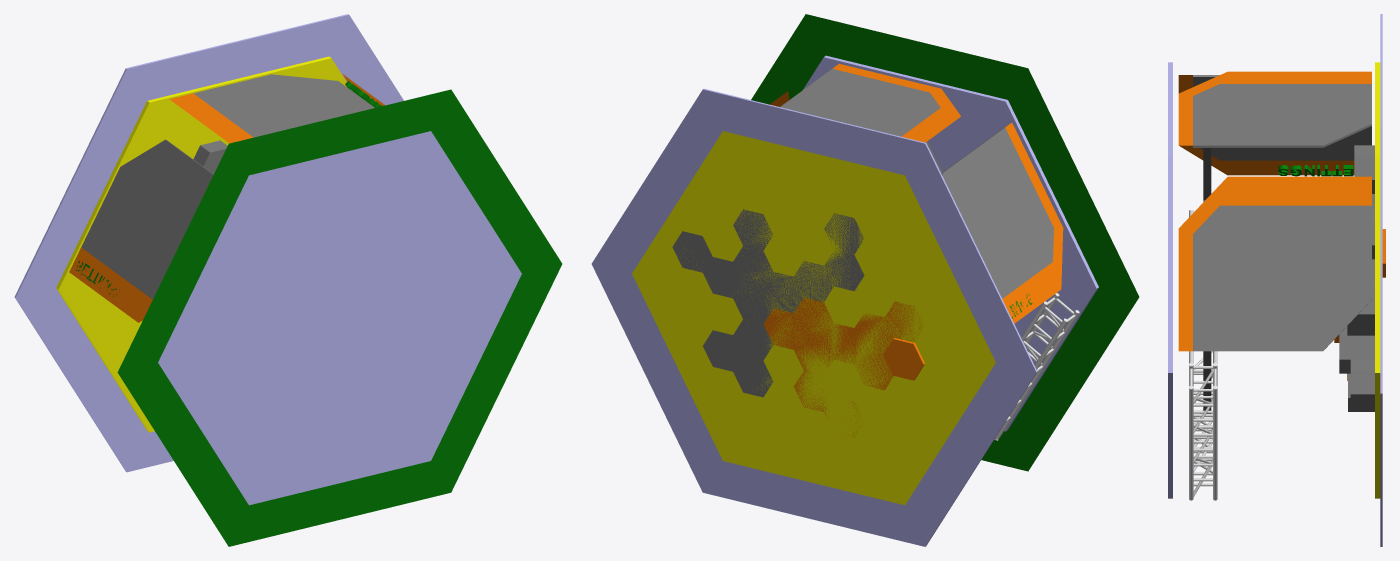
Rendered from SCENE (COLORED).fbx.
The picture shows the model from 3 angles, left to right: view 1: azimuth 30°, elevation 25°; view 2: azimuth 150°, elevation 25°; view 3: azimuth 270°, elevation 25°; orthographic projection. The views are drawn at different scales.
Parts seen in each view (by area): view 1: GROUND, CEILING, PANEL, STAGE, TRIM, TABLE; view 2: STAGE, GROUND, CEILING, PANEL, TABLE, Player A, TRIM, RACK; view 3: PANEL, TRIM, TABLE, GROUND, RACK, STAGE, BOX, TEXT 1ST.
Part boxes in pixels (bbox=[...]): GROUND: bbox=[14, 14, 521, 505]; CEILING: bbox=[117, 89, 562, 546]; PANEL: bbox=[81, 74, 374, 299]; STAGE: bbox=[56, 56, 346, 432]; TRIM: bbox=[69, 74, 385, 322]; TABLE: bbox=[193, 140, 227, 174]; STAGE: bbox=[632, 131, 995, 505]; GROUND: bbox=[591, 55, 1098, 546]; CEILING: bbox=[751, 14, 1139, 471]; PANEL: bbox=[780, 69, 1053, 298]; TABLE: bbox=[672, 209, 864, 397]; Player A: bbox=[763, 297, 924, 437]; TRIM: bbox=[770, 63, 1063, 323]; RACK: bbox=[994, 293, 1079, 440]; PANEL: bbox=[1193, 75, 1371, 351]; TRIM: bbox=[1178, 71, 1371, 351]; TABLE: bbox=[1339, 145, 1374, 411]; GROUND: bbox=[1168, 14, 1382, 546]; RACK: bbox=[1189, 210, 1217, 500]; STAGE: bbox=[1375, 62, 1380, 498]; BOX: bbox=[1203, 148, 1211, 413]; TEXT 1ST: bbox=[1278, 165, 1353, 176].
Size of the model in its own units: 37.4 by 32.39 by 15.22.
